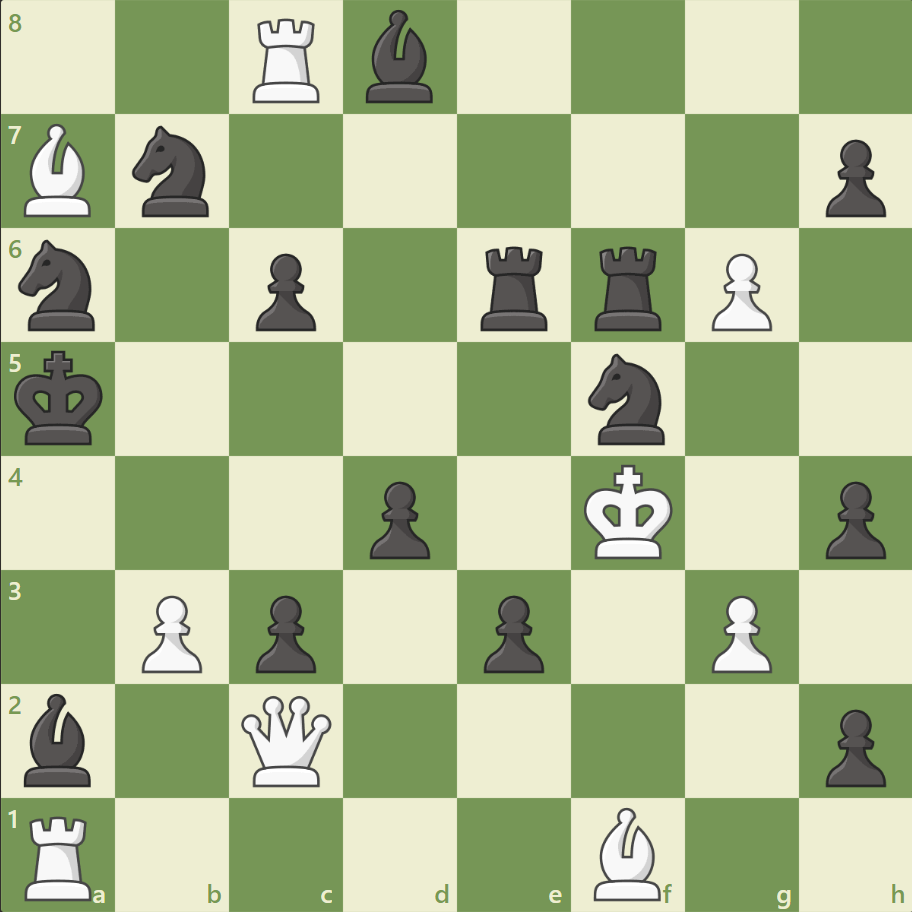B: (585, 801, 669, 904), (17, 120, 101, 222)
K: (579, 458, 679, 566)
P: (701, 246, 776, 337), (133, 586, 208, 677), (701, 586, 776, 677)
Q: (237, 690, 336, 789)
R: (19, 806, 102, 904), (246, 12, 329, 109)
b: (358, 6, 442, 109), (17, 687, 101, 790)
k: (11, 344, 111, 452)
n: (124, 121, 222, 223), (11, 234, 108, 337), (579, 348, 676, 450)
p: (247, 246, 322, 337), (247, 586, 322, 677), (474, 586, 549, 677), (815, 132, 889, 223), (361, 473, 435, 564), (815, 473, 889, 564), (815, 700, 889, 791)
r: (473, 239, 556, 336), (587, 239, 670, 336)
